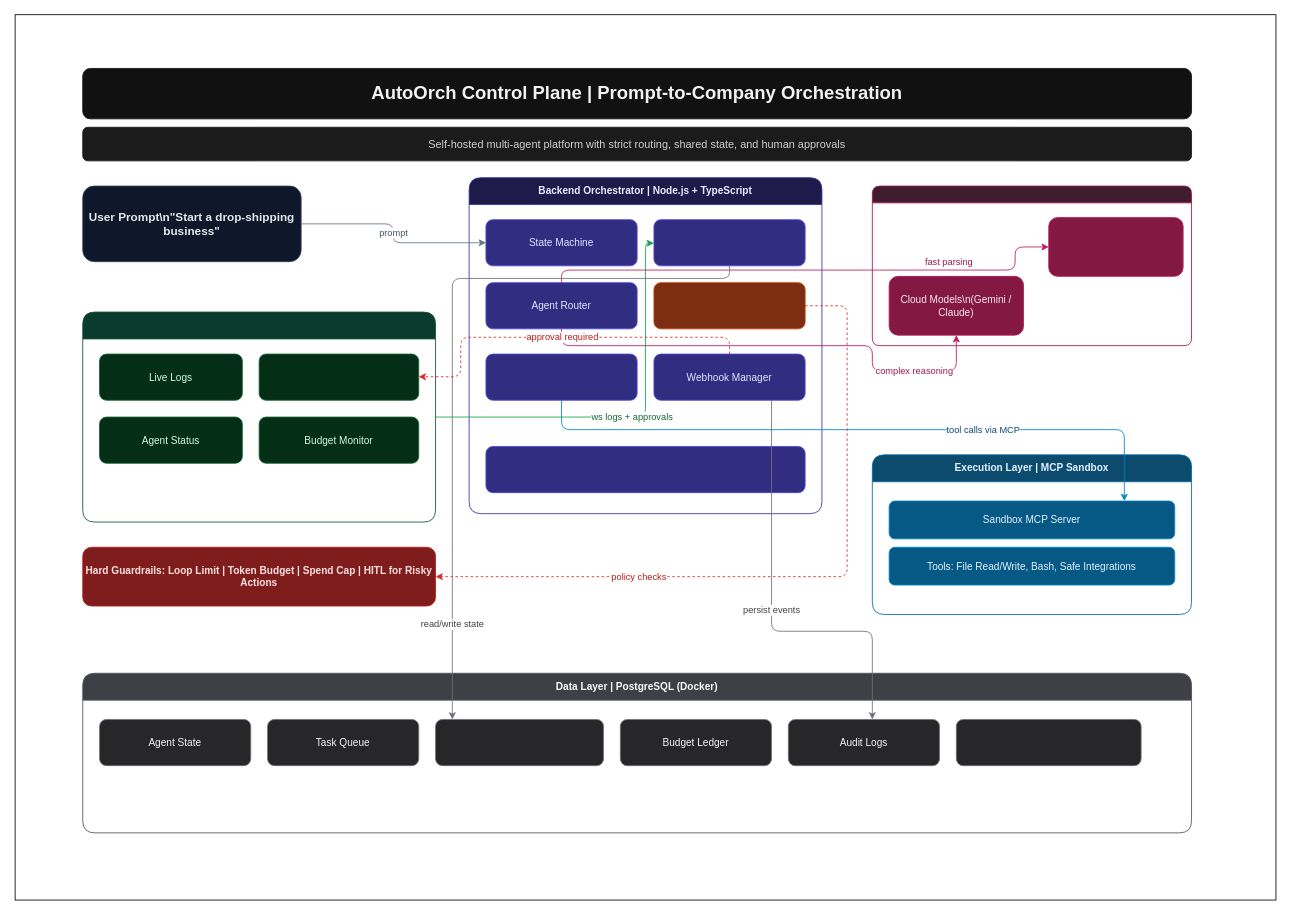
Image size: 1290x915. Some labels were removed from this diagram. The shapes that lost their labels are listed below. From the top down, each one's box as (x1, y1, x2, y2) in pixels, then its label:
(653, 219, 805, 266): Task Broker
(1048, 217, 1183, 276): Local Model\n(Ollama)
(872, 185, 1192, 346): Model Layer | Hybrid Inference
(653, 282, 805, 329): Guardrails Engine
(258, 353, 419, 400): Approval Queue (HITL)
(485, 353, 637, 400): MCP Client
(82, 311, 436, 522): Frontend | CEO Terminal (React)
(485, 446, 805, 493): Strict JSON Validator
(435, 719, 604, 766): Blackboard JSON
(956, 719, 1141, 766): Checkpoint History
